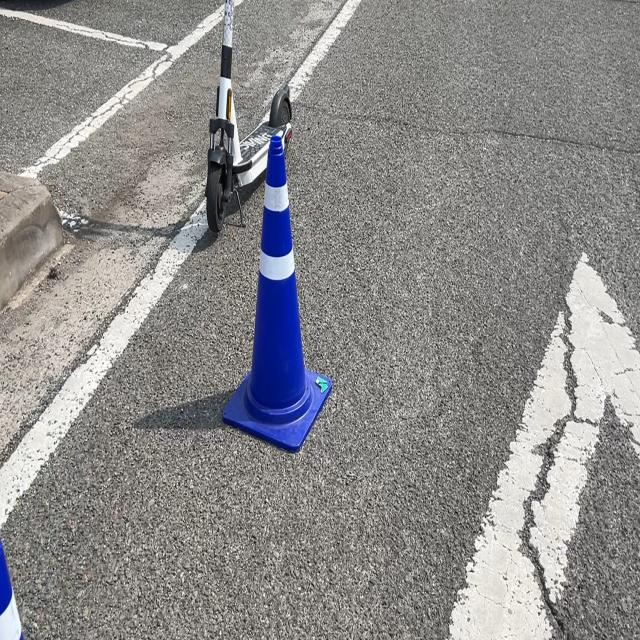b_rub: (223, 134, 333, 451)
